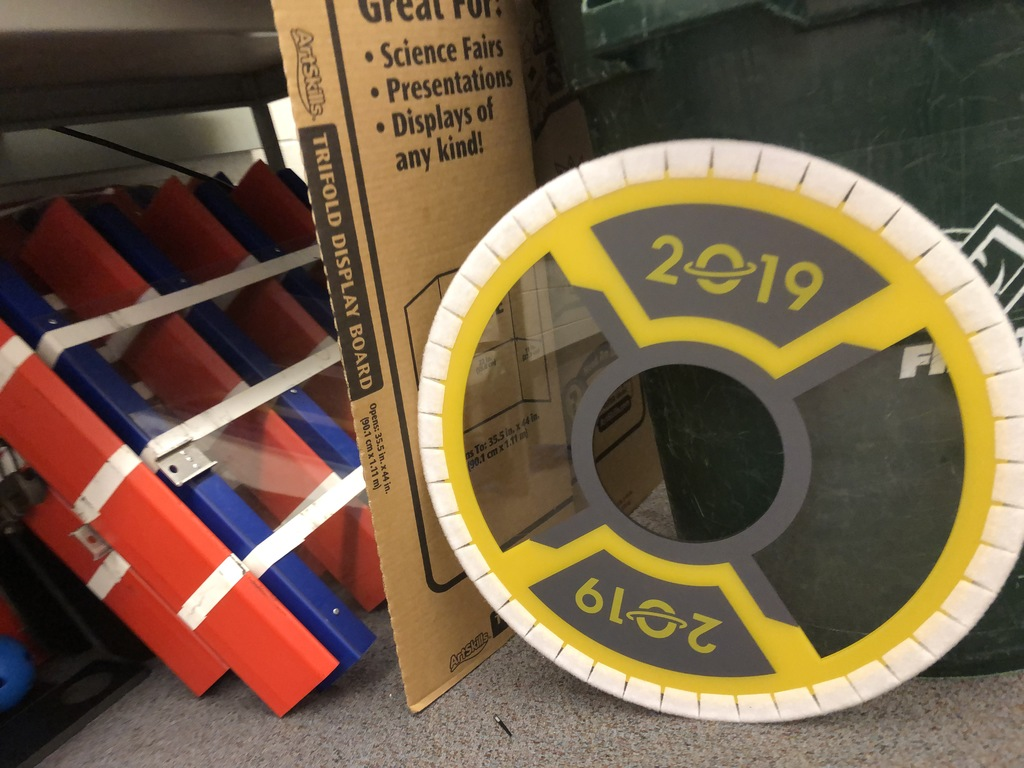hatch_panel: (403, 134, 1013, 756)
